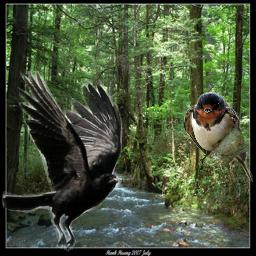Crow: (2, 71, 124, 254)
Swallow: (184, 92, 253, 182)
